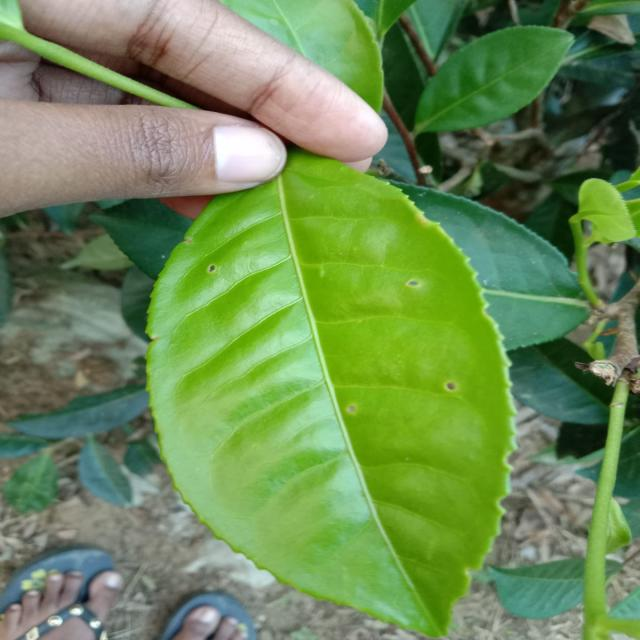Category C 4-7 days: (125, 127, 530, 639)
